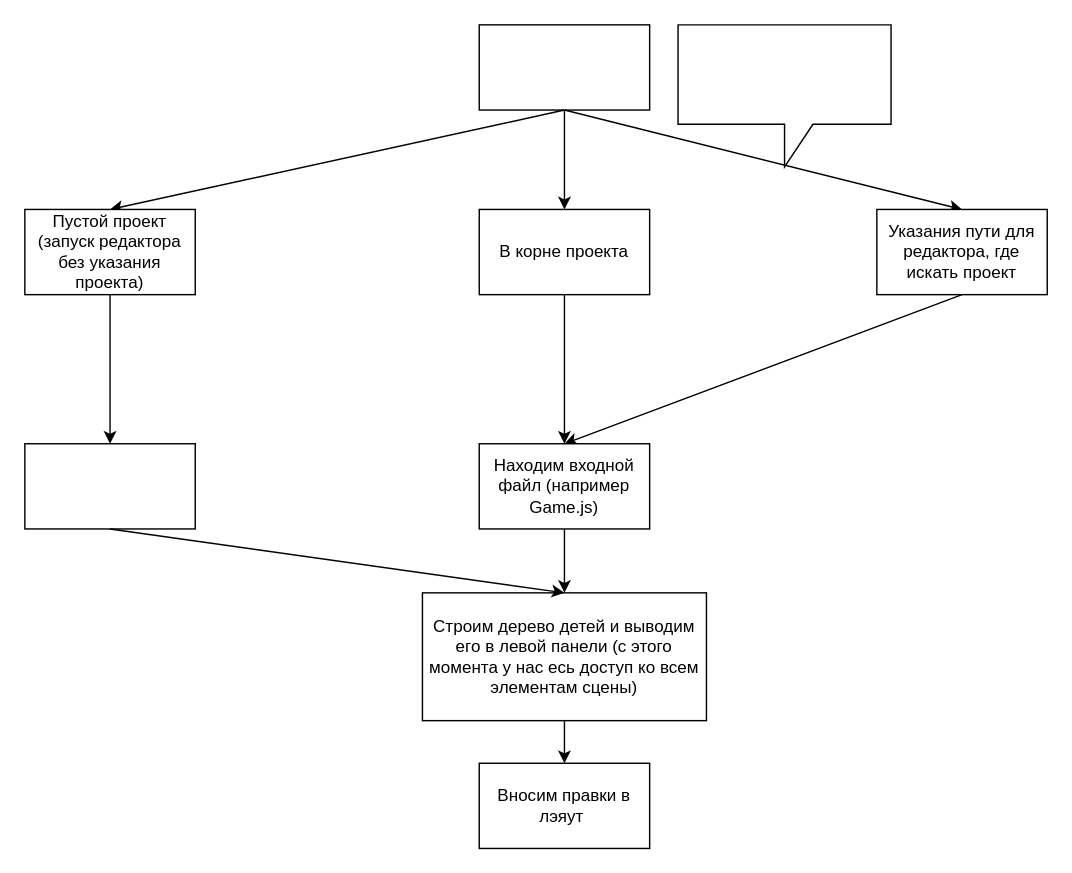
This 1072x873 diagram has some shape labels left out. The centre of each missing label's shape, as x and y in pixels:
"Запуск редактора" goes at point (564, 66).
"на этом этапе записываем в каком из трех модов работает редактор" goes at point (784, 95).
"Создаем входной файл (по типу Game.js)" goes at point (109, 485).
